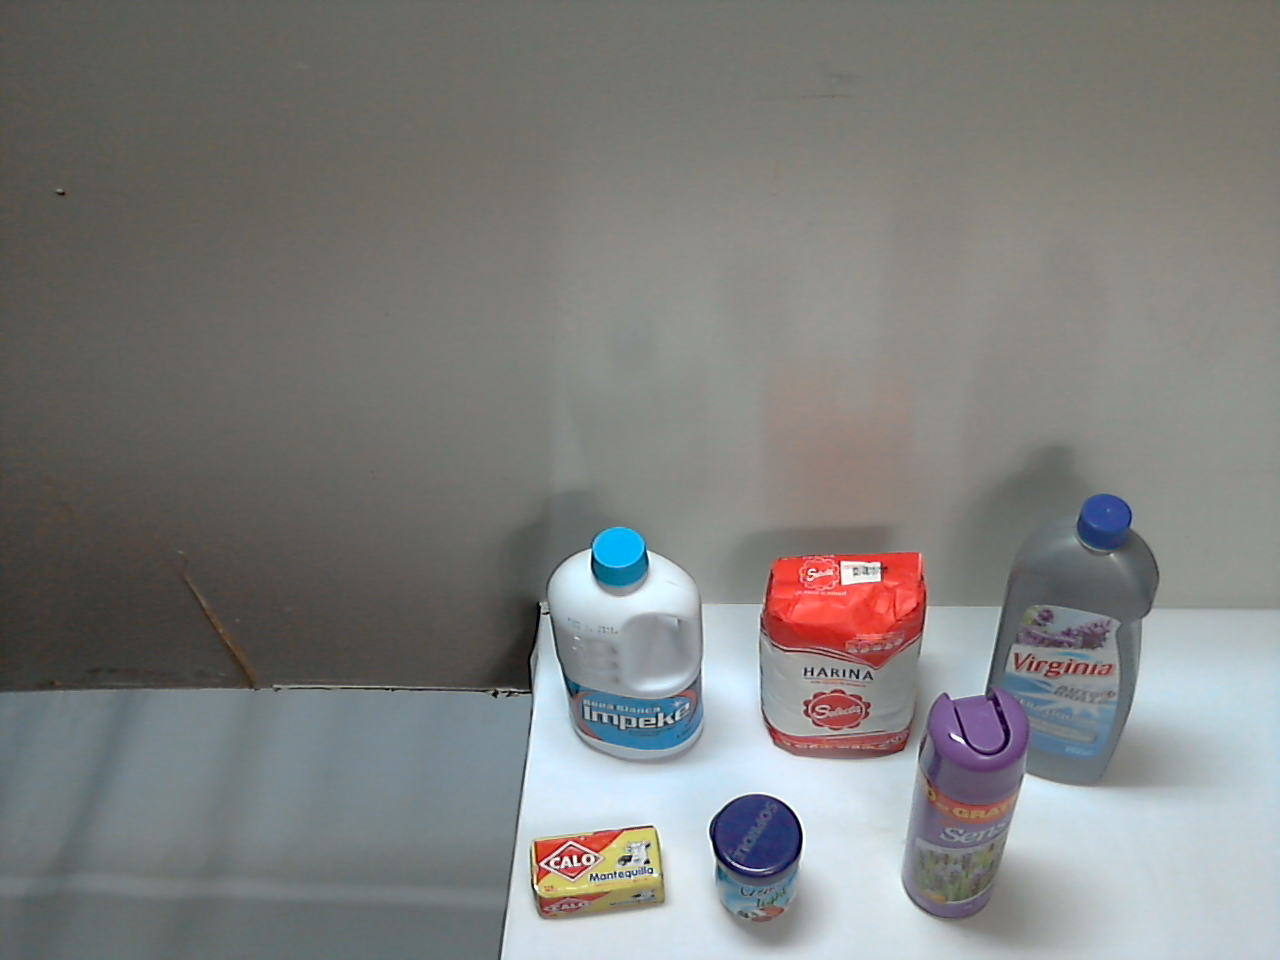aerosol: (1064, 503, 1232, 744)
cera: (910, 406, 1069, 709)
cloro: (741, 432, 905, 688)
crema: (699, 666, 786, 811)
harina: (558, 513, 739, 729)
mantequilla: (896, 751, 1046, 853)
